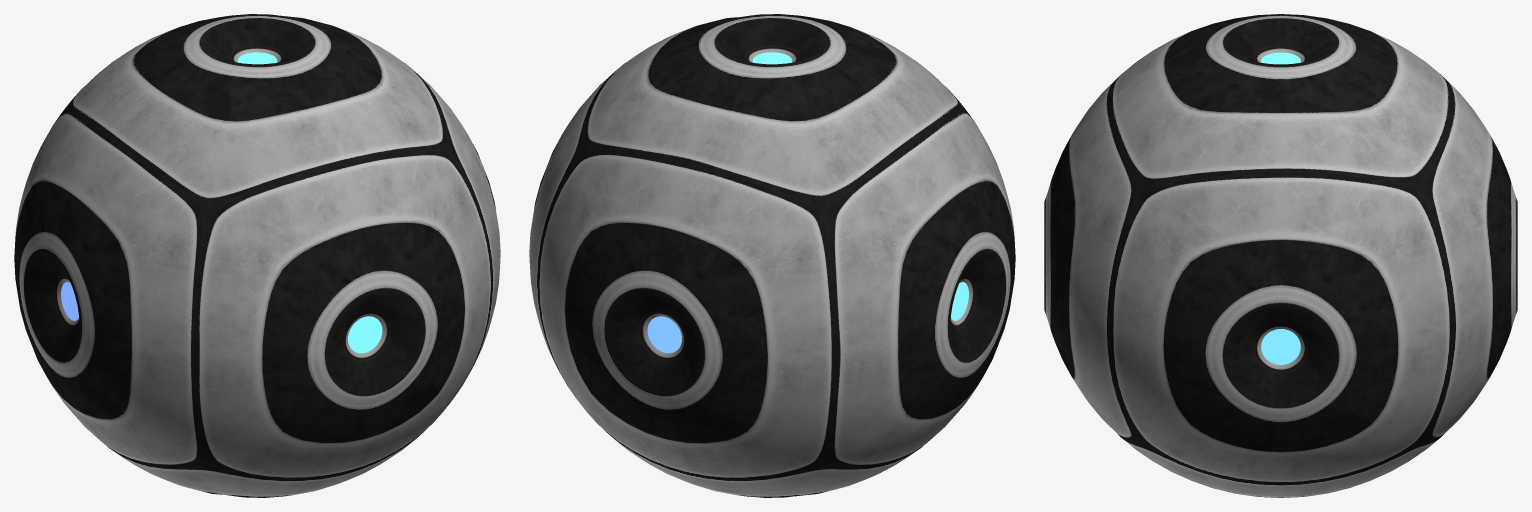
Rendered from ball.glb.
3 views of the same model, side by side, from view 1: azimuth 30°, elevation 25°; view 2: azimuth 150°, elevation 25°; view 3: azimuth 270°, elevation 25° (orthographic).
Parts seen in each view (by area): view 1: Cube; view 2: Cube; view 3: Cube.
Boxes of the visible parts, <box> form: Cube: <box>14,14,500,497</box>; Cube: <box>529,14,1015,497</box>; Cube: <box>1044,14,1517,497</box>.
Bounding box in the file's own units: 1.64 × 1.64 × 1.64.
Materials: 2 (1 with a texture image).
